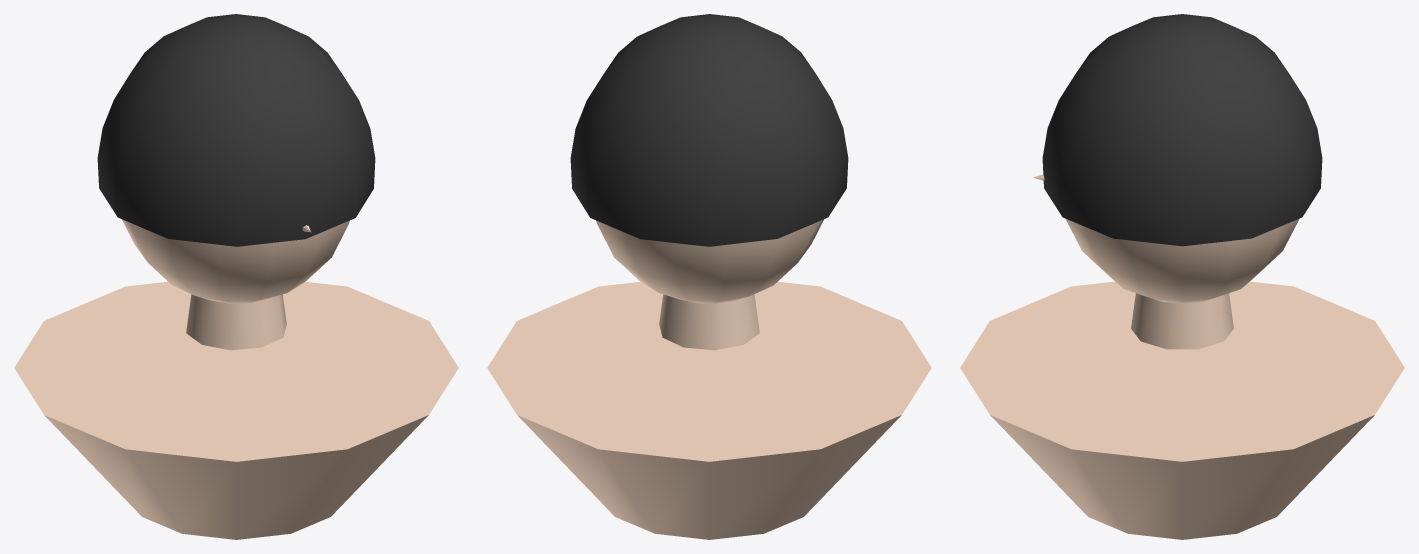
Rendered from portrait14m_003.glb.
3 renders of one model, left to right at view 1: azimuth 30°, elevation 25°; view 2: azimuth 150°, elevation 25°; view 3: azimuth 270°, elevation 25°, orthographic.
Size of the model in its own units: 1.81 by 2.11 by 1.81.
